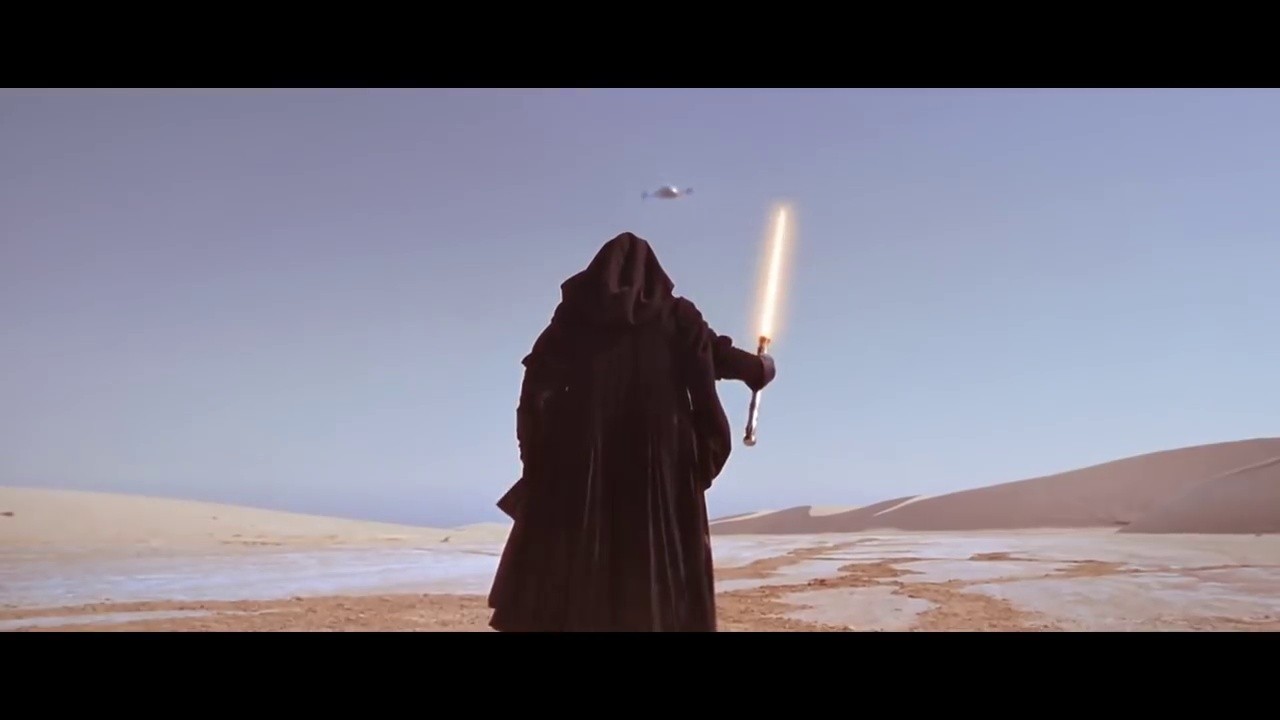lightsaber: (744, 190, 794, 445)
